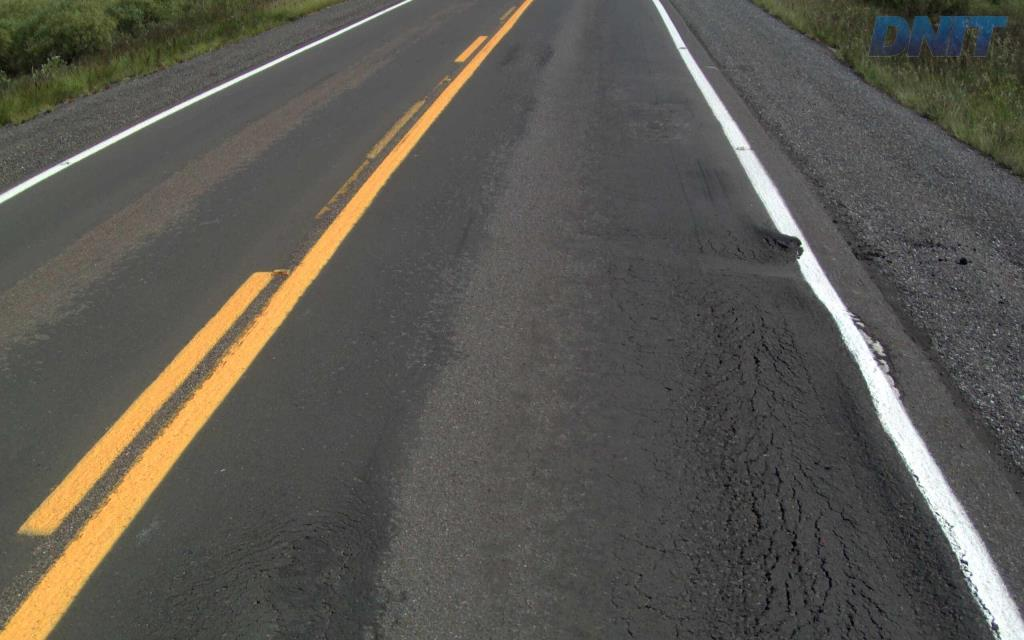crack: (719, 454, 767, 546), (718, 578, 770, 639), (807, 532, 832, 624), (753, 536, 779, 587)
